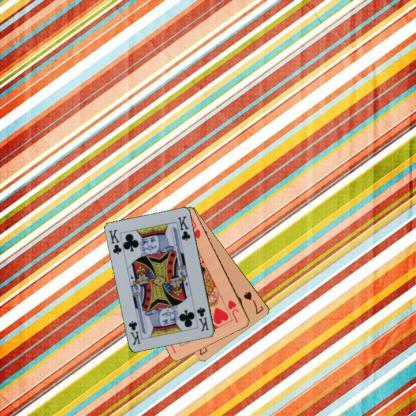7s: (240, 288, 265, 316)
Jh: (226, 298, 240, 324)
Kc: (106, 227, 123, 256), (194, 304, 210, 332)
